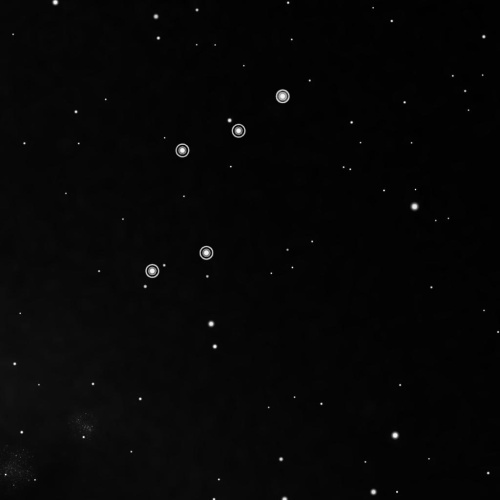lyra: (143, 84, 295, 282)
